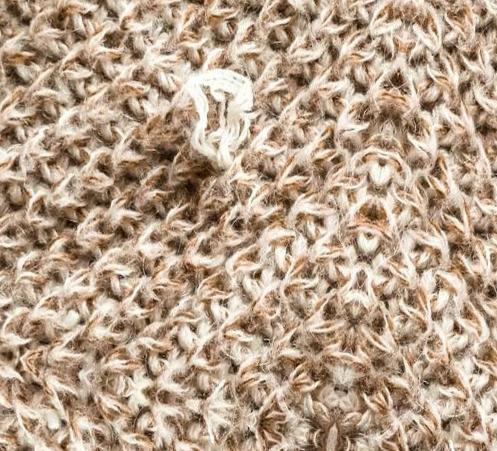snag: (168, 67, 267, 178)
